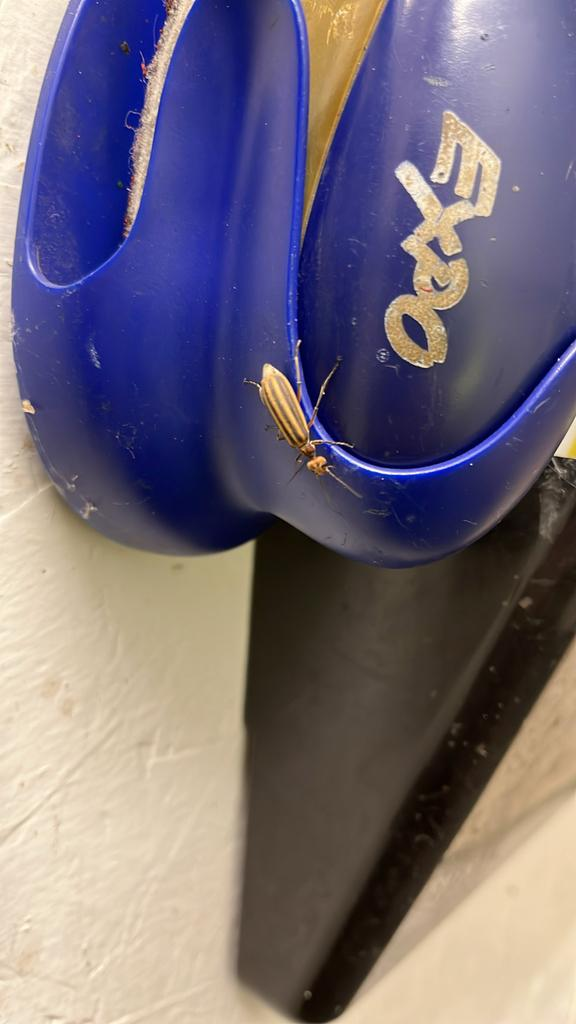blister_beetle: (223, 329, 371, 508)
